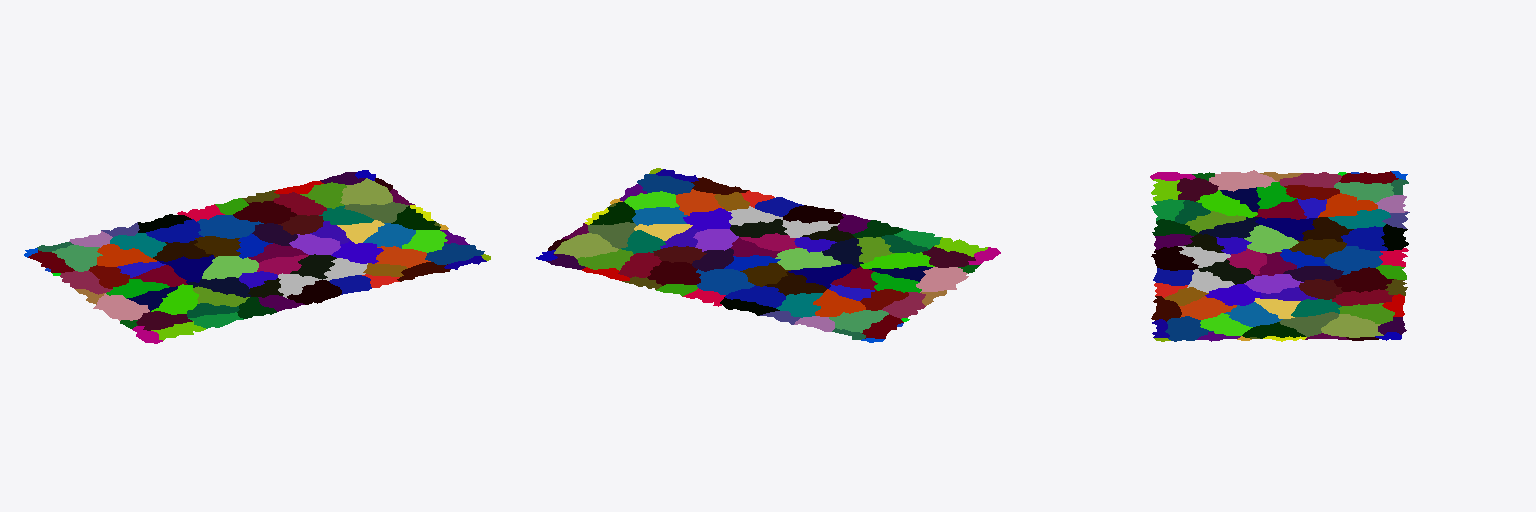
The model's file is mappaPulita.obj.
The picture shows the model from 3 angles: view 1: azimuth 30°, elevation 25°; view 2: azimuth 150°, elevation 25°; view 3: azimuth 270°, elevation 25°; orthographic projection.
Parts seen in each view (by area): view 1: path_9, path_55, path_17, path_2, path_57, path_30, path_26, path_51, path_41, path_16, path_62, path_43 (+28 smaller); view 2: path_9, path_55, path_17, path_2, path_57, path_30, path_26, path_51, path_16, path_41, path_62, path_7 (+28 smaller); view 3: path_9, path_55, path_17, path_2, path_57, path_30, path_26, path_51, path_41, path_16, path_62, path_43 (+28 smaller).
Boxes of the visible parts, x1=… form: path_9: x1=197, y1=215, x2=263, y2=238; path_55: x1=340, y1=178, x2=392, y2=204; path_17: x1=233, y1=201, x2=296, y2=223; path_2: x1=202, y1=256, x2=258, y2=279; path_57: x1=93, y1=293, x2=149, y2=320; path_30: x1=97, y1=244, x2=156, y2=266; path_26: x1=151, y1=284, x2=198, y2=314; path_51: x1=52, y1=245, x2=102, y2=271; path_41: x1=363, y1=223, x2=415, y2=248; path_16: x1=146, y1=219, x2=202, y2=242; path_62: x1=425, y1=243, x2=484, y2=264; path_43: x1=375, y1=246, x2=430, y2=267; path_9: x1=696, y1=269, x2=754, y2=294; path_55: x1=554, y1=233, x2=618, y2=258; path_17: x1=647, y1=261, x2=700, y2=285; path_2: x1=775, y1=248, x2=840, y2=269; path_57: x1=916, y1=267, x2=968, y2=292; path_30: x1=813, y1=289, x2=865, y2=316; path_26: x1=860, y1=252, x2=934, y2=268; path_51: x1=829, y1=310, x2=888, y2=332; path_16: x1=725, y1=285, x2=785, y2=307; path_41: x1=632, y1=206, x2=687, y2=225; path_62: x1=637, y1=174, x2=694, y2=194; path_7: x1=788, y1=264, x2=856, y2=288; path_9: x1=1324, y1=246, x2=1382, y2=274; path_55: x1=1321, y1=314, x2=1383, y2=337; path_17: x1=1334, y1=267, x2=1393, y2=292; path_2: x1=1244, y1=225, x2=1298, y2=253; path_57: x1=1209, y1=170, x2=1277, y2=191; path_30: x1=1318, y1=193, x2=1377, y2=217; path_26: x1=1196, y1=190, x2=1257, y2=217; path_51: x1=1334, y1=182, x2=1393, y2=202; path_41: x1=1224, y1=302, x2=1282, y2=326; path_16: x1=1341, y1=226, x2=1387, y2=250; path_62: x1=1165, y1=316, x2=1212, y2=341; path_43: x1=1179, y1=296, x2=1236, y2=319.
Size of the model in its own units: 0.4724 by 0 by 0.3028.